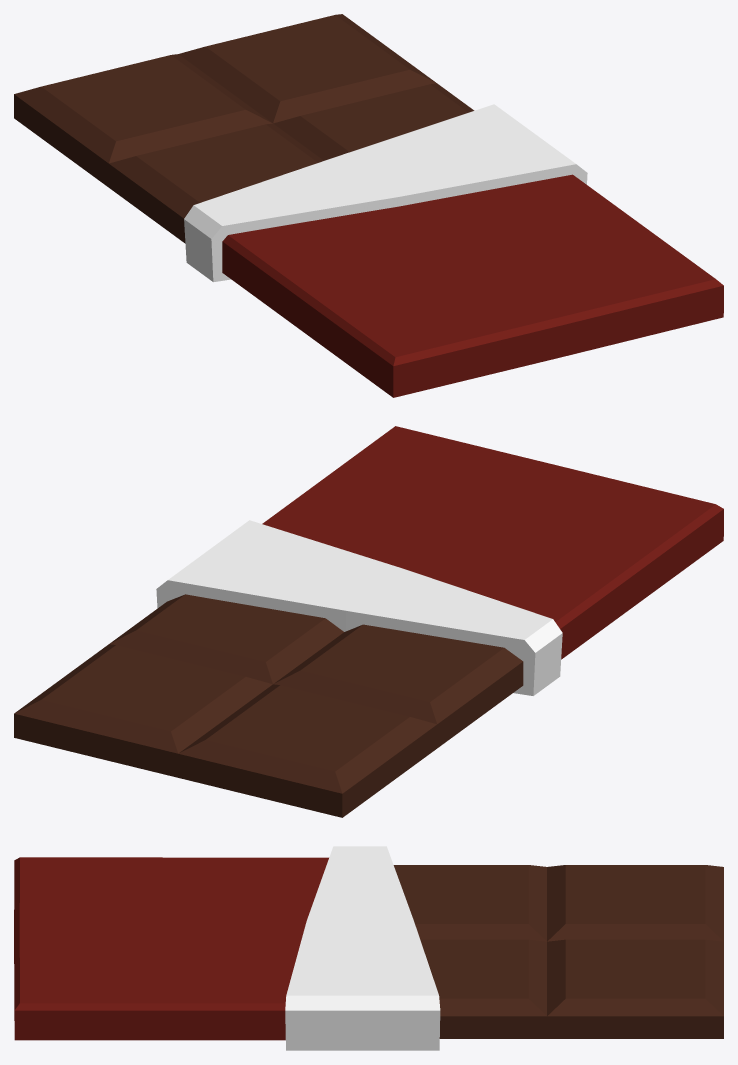
File: choc.fbx
The picture shows the model from 3 angles, top to bottom: view 1: azimuth 30°, elevation 25°; view 2: azimuth 150°, elevation 25°; view 3: azimuth 270°, elevation 25°; orthographic projection. The views are drawn at different scales.
Parts seen in each view (by area): view 1: inside, Cube, outside; view 2: Cube, inside, outside; view 3: inside, Cube, outside.
Boxes of the visible parts, x1,y1,x2,y2 form: inside: (222,174,723,397); Cube: (14,14,474,243); outside: (184,104,587,282); Cube: (14,594,523,817); inside: (262,426,723,659); outside: (156,520,562,695); inside: (14,857,328,1040); Cube: (393,865,723,1038); outside: (285,846,440,1050).
Size of the model in its own units: 213 by 33.16 by 402.
